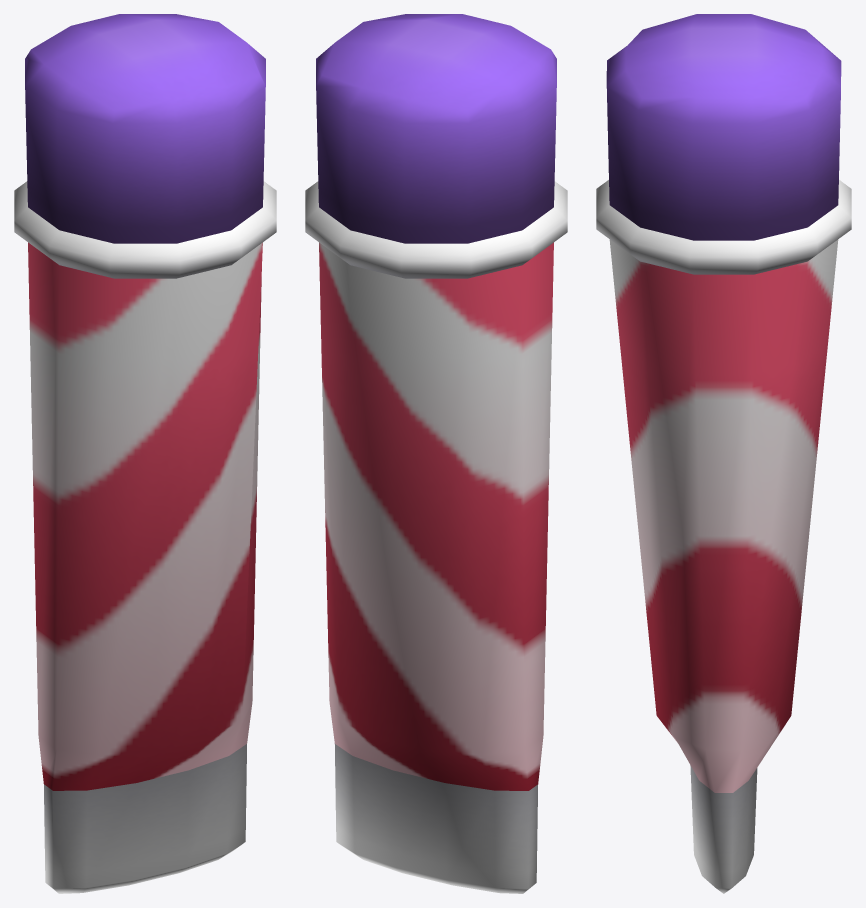
The model's file is m_PushPop10.fbx.
3 views of the same model, side by side, from view 1: azimuth 30°, elevation 25°; view 2: azimuth 150°, elevation 25°; view 3: azimuth 270°, elevation 25° (orthographic). The views are drawn at different scales.
Parts seen in each view (by area): view 1: m_PushPop10; view 2: m_PushPop10; view 3: m_PushPop10.
Part boxes in pixels (bbox=[...]): m_PushPop10: bbox=[14, 14, 276, 893]; m_PushPop10: bbox=[305, 14, 567, 893]; m_PushPop10: bbox=[596, 14, 851, 893].
Bounding box in the file's own units: 6.5 × 22.79 × 6.5.
